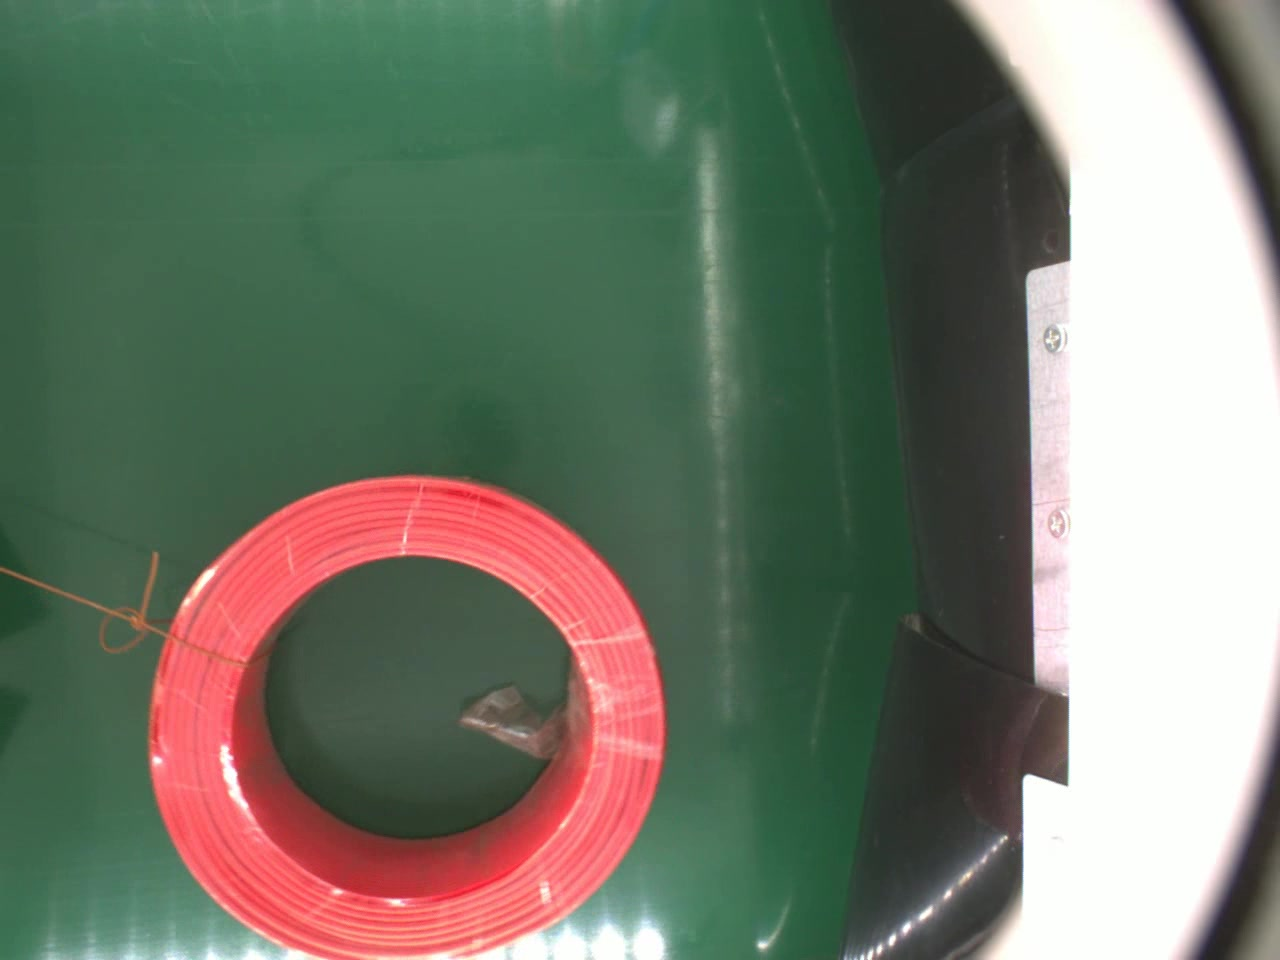red: (145, 470, 667, 960)
